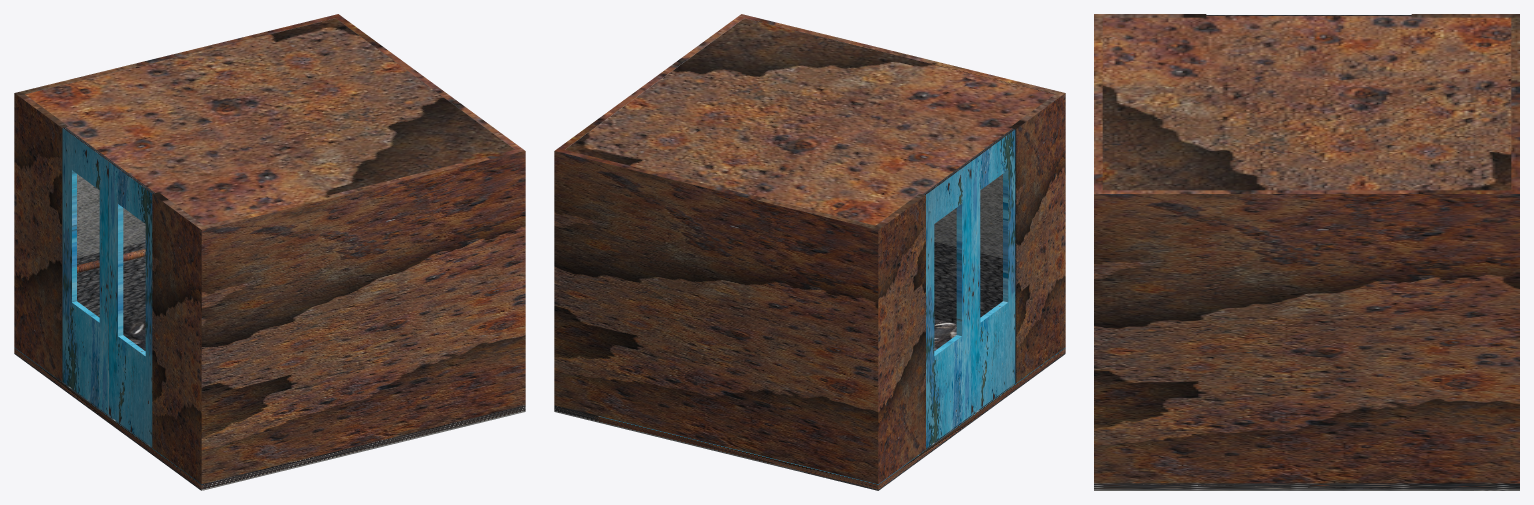
File: エレベーター.fbx
3 views of the same model, side by side, from view 1: azimuth 30°, elevation 25°; view 2: azimuth 150°, elevation 25°; view 3: azimuth 270°, elevation 25° (orthographic). The views are drawn at different scales.
Parts seen in each view (by area): view 1: Cube, 立方体.002, 立方体, 立方体.001; view 2: Cube, 立方体.002, 立方体, 立方体.001; view 3: Cube, 立方体.002.
Boxes of the visible parts, x1,y1,x2,y2 form: Cube: (14, 14, 525, 490); 立方体.002: (25, 18, 514, 225); 立方体: (62, 127, 110, 415); 立方体.001: (109, 161, 154, 446); Cube: (554, 14, 1065, 490); 立方体.002: (565, 18, 1054, 225); 立方体: (923, 161, 971, 448); 立方体.001: (969, 128, 1015, 414); Cube: (1094, 14, 1519, 490); 立方体.002: (1102, 16, 1511, 190).
Bounding box in the file's own units: 1000 × 1000 × 770.
4 materials, 4 textured.
